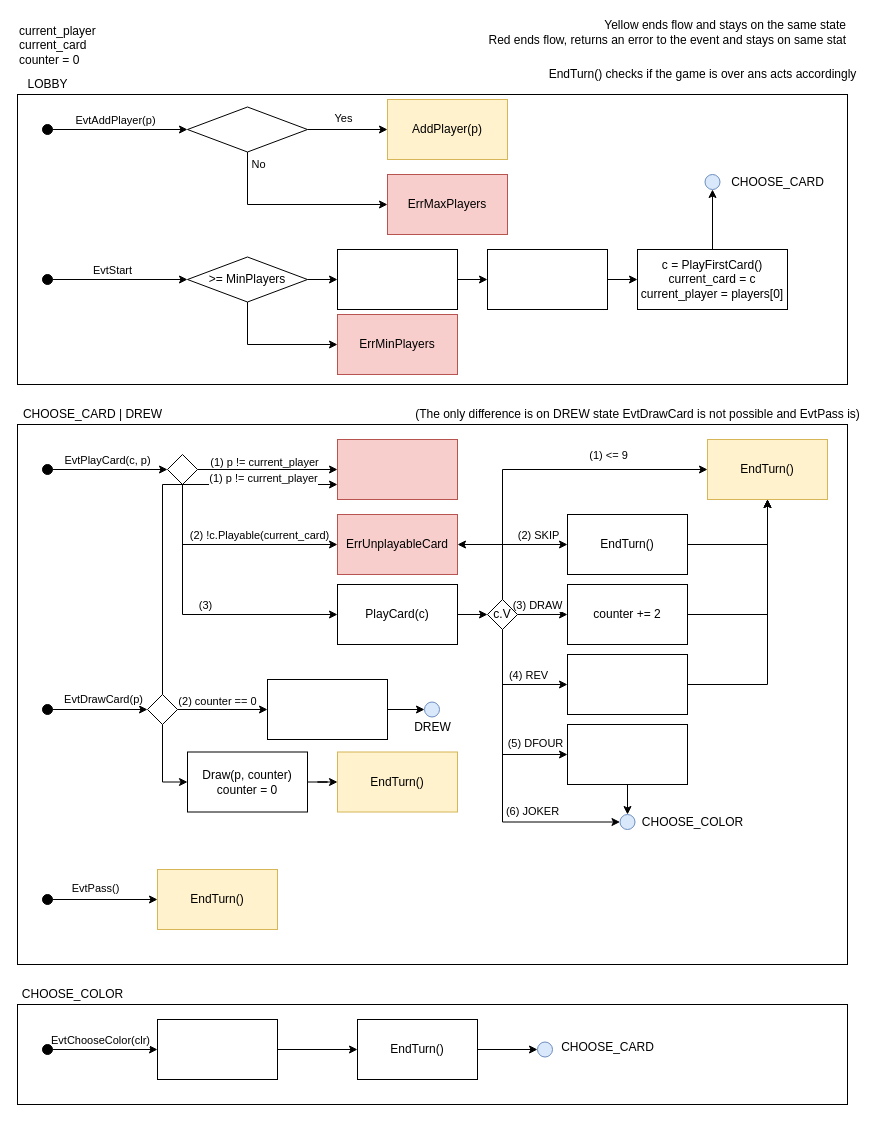
The diagram is 877 pixels wide and 1122 high, and some of its shapes have lost their labels. The shapes that lost their labels are listed below. From the top down, each one's box as (x1, y1, x2, y2) in pixels, then its label:
(186, 106, 308, 152): <= MaxPlayers
(336, 248, 458, 310): Shuffle()
(486, 248, 608, 310): Draw()
(336, 438, 458, 500): ErrWrongPlayer
(566, 654, 688, 714): if players > 2 ReverseGame() else EndTurn()
(266, 678, 388, 740): Draw(p, 1)
(566, 724, 688, 784): counter += 4
(156, 1018, 278, 1080): current_card.color = clr
